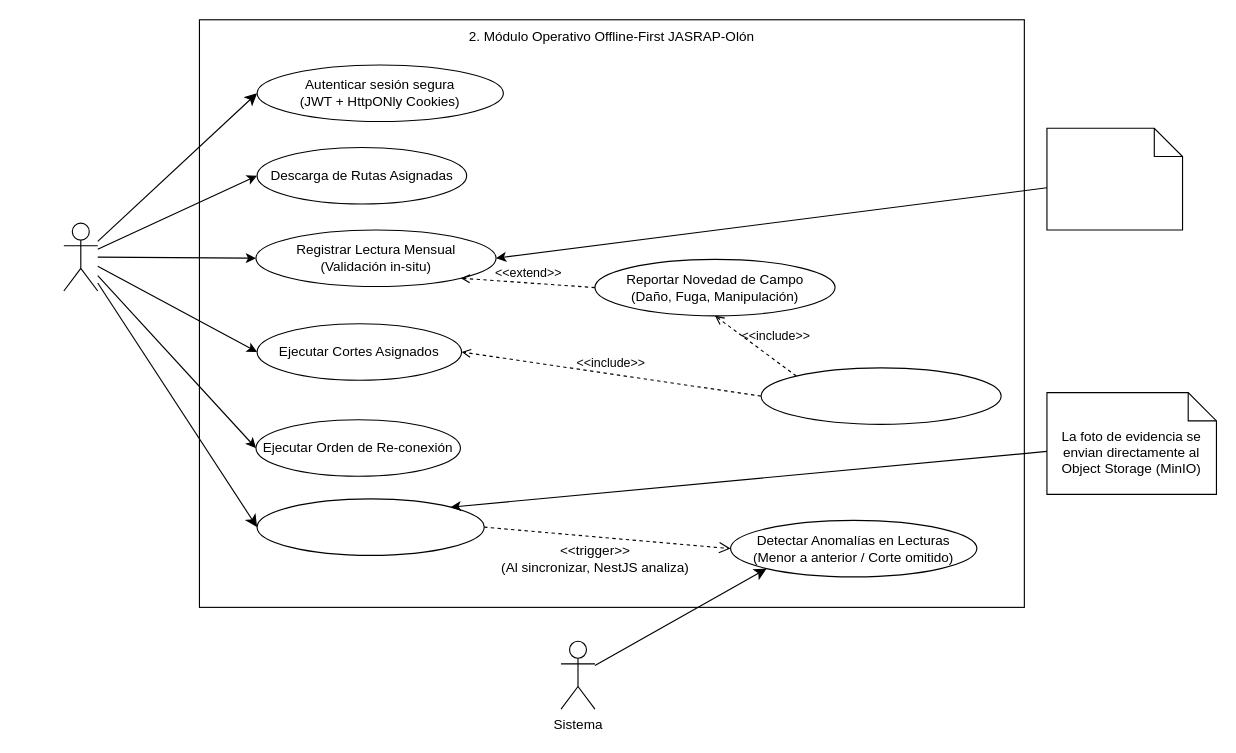
The diagram is 1236 pixels wide and 753 high, and some of its shapes have lost their labels. Here are the shapes that lost their labels. From the top down, the box of each, then its label:
(1046, 127, 1183, 230): La app bloquea lecturas ilógicas y exige foto si hay exceso
(63, 222, 98, 291): Operador de Campo
(760, 367, 1001, 424): Subir Evidencia Fotográfica
(256, 498, 484, 555): Subir Lecturas y fotos al sistema (Sincronización)
